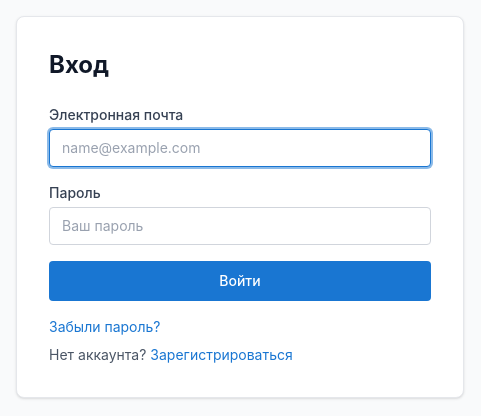
Test: LoginPage (US5 — authentication) › shows the 2FA form when server requests a TOTP code
The image size is (481, 416).
Type "user@example.com" into the field labelled "Электронная почта" at (240, 148), box [49,129,431,167]
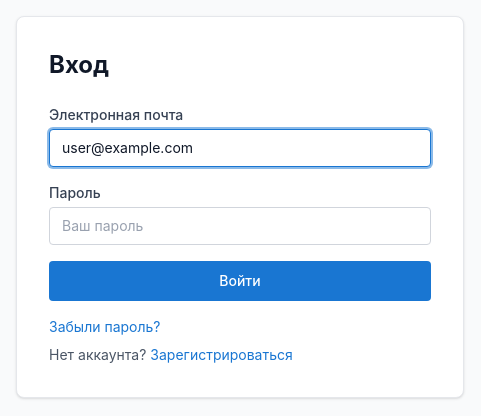
Type "secret-pw" into the password field labelled "Пароль" at (240, 226), box [49,207,431,245]
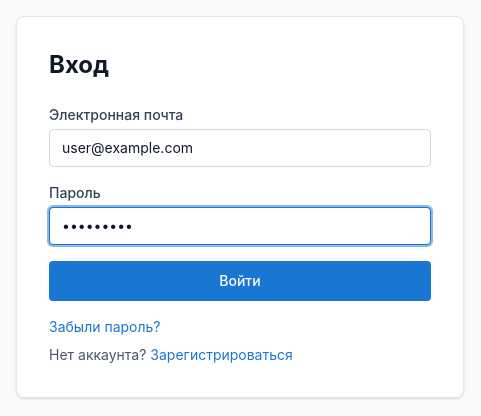
Click the button "Войти" at (240, 281), box [49,261,431,301]
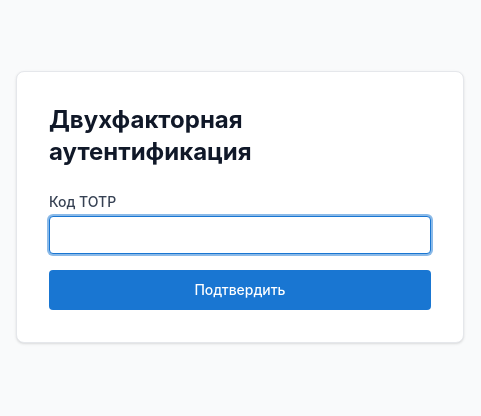
Check: the heading "Двухфакторная аутентификация" is shown, box [49,105,252,166]
Check: the field labelled "Код TOTP" is shown, box [49,216,431,254]
